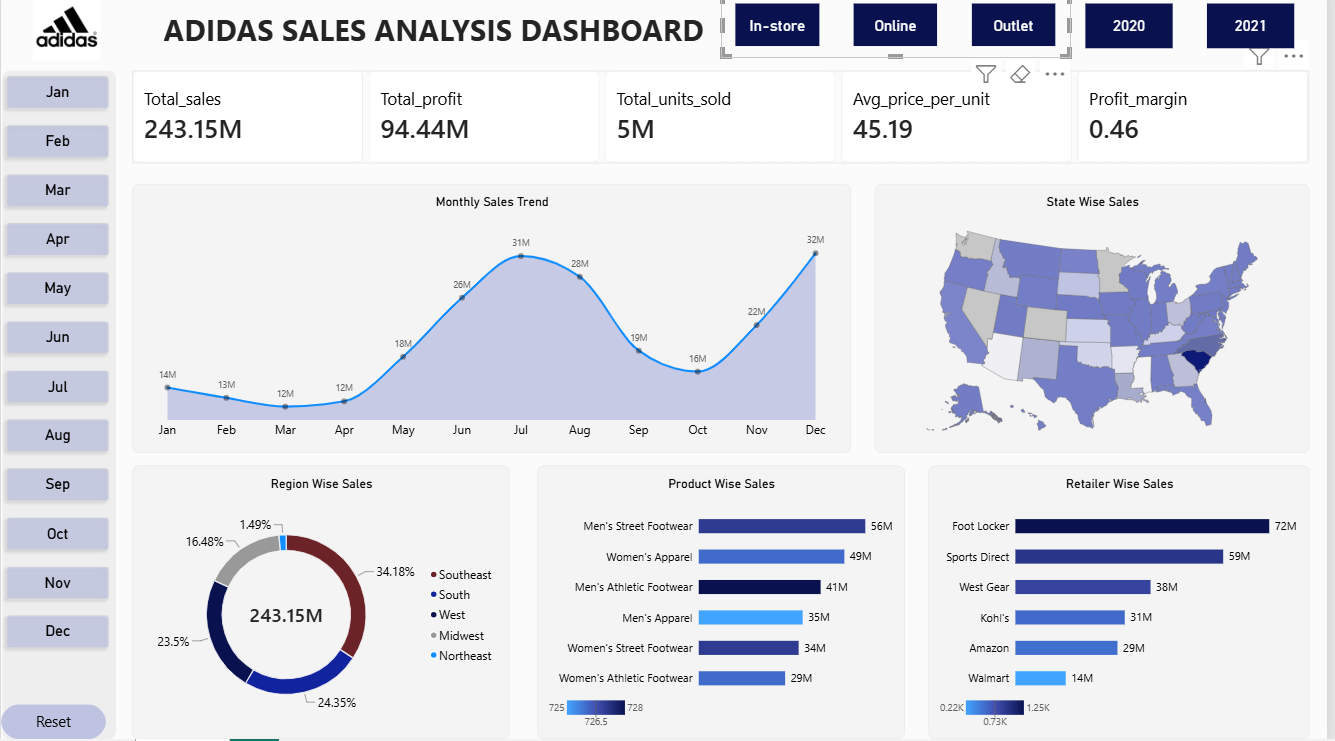

The page's visual inventory and layout, read from the dashboard file:
{"tool":"powerbi","page":{"name":"Page 1","canvas":[1920,1080],"ordinal":0},"visuals":[{"type":"cardVisual","fields":{"Data":["Data Sales Adidas.Total_sales","Data Sales Adidas.Total_profit","Data Sales Adidas.Total_units_sold","Data Sales Adidas.Avg_price_per_unit","Data Sales Adidas.Profit_margin"]},"box":[190,112.2,1704.7,133.9],"z":0},{"type":"image","box":[0,0,190,97.7],"z":1000},{"type":"textbox","box":[0,189,152,150],"z":2000},{"type":"textbox","box":[235.3,23.5,807.1,70.6],"z":3000},{"type":"shape","box":[1.8,112.2,164.7,968.2],"z":4000},{"type":"areaChart","title":"Monthly Sales Trend","fields":{"Category":["Data Sales Adidas.Month"],"Y":["Data Sales Adidas.Total_sales"]},"box":[190,276.9,1040.6,389.1],"z":5000},{"type":"shapeMap","title":"State Wise Sales","fields":{"Category":["Data Sales Adidas.State"],"Value":["Data Sales Adidas.Total_sales"]},"box":[1265,276.9,629.8,389.1],"z":6000},{"type":"donutChart","title":"Region Wise Sales","fields":{"Category":["Data Sales Adidas.Region"],"Y":["Data Sales Adidas.Total_sales"]},"box":[190,684.1,546.5,396.3],"z":7000},{"type":"clusteredBarChart","title":"Product Wise Sales","fields":{"Category":["Data Sales Adidas.Product"],"Y":["Data Sales Adidas.Total_sales"]},"box":[776.3,684.1,532,396.3],"z":8000},{"type":"advancedSlicerVisual","fields":{"Values":["Data Sales Adidas.Sales Method"]},"box":[1042.4,0,506.7,94.1],"z":9000},{"type":"clusteredBarChart","title":"Retailer Wise Sales","fields":{"Category":["Data Sales Adidas.Retailer"],"Y":["Data Sales Adidas.Total_sales"]},"box":[1342.8,684.1,551.9,396.3],"z":10000},{"type":"advancedSlicerVisual","fields":{"Values":["Data Sales Adidas.Invoice Date.Variation.Date Hierarchy.Year"]},"box":[1549.1,0,345.6,97.7],"z":11000},{"type":"advancedSlicerVisual","fields":{"Values":["Data Sales Adidas.Month"]},"box":[0,112.2,164.7,856],"z":12000},{"type":"actionButton","box":[0,1029.7,152,50.7],"z":13000}]}

Visuals, with their boxes in screenshot pixels (x1, y1, x2, y2), scaled from the page's 1920x1080 canvas onto the 1335x741 screenshot:
cardVisual - Data Sales Adidas.Total_sales x Data Sales Adidas.Total_profit: box=[132, 77, 1317, 169]
image: box=[0, 0, 132, 67]
textbox: box=[0, 130, 106, 233]
textbox: box=[164, 16, 725, 65]
shape: box=[1, 77, 116, 740]
"Monthly Sales Trend" areaChart: box=[132, 190, 856, 457]
"State Wise Sales" shapeMap: box=[880, 190, 1317, 457]
"Region Wise Sales" donutChart: box=[132, 469, 512, 740]
"Product Wise Sales" clusteredBarChart: box=[540, 469, 910, 740]
advancedSlicerVisual - Data Sales Adidas.Sales Method: box=[725, 0, 1077, 65]
"Retailer Wise Sales" clusteredBarChart: box=[934, 469, 1317, 740]
advancedSlicerVisual - Data Sales Adidas.Invoice Date.Variation.Date Hierarchy.Year: box=[1077, 0, 1317, 67]
advancedSlicerVisual - Data Sales Adidas.Month: box=[0, 77, 115, 664]
actionButton: box=[0, 706, 106, 740]
